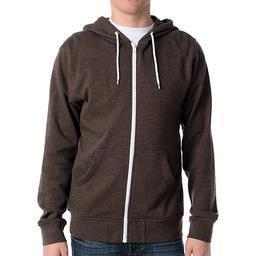sweater: (38, 16, 218, 245)
